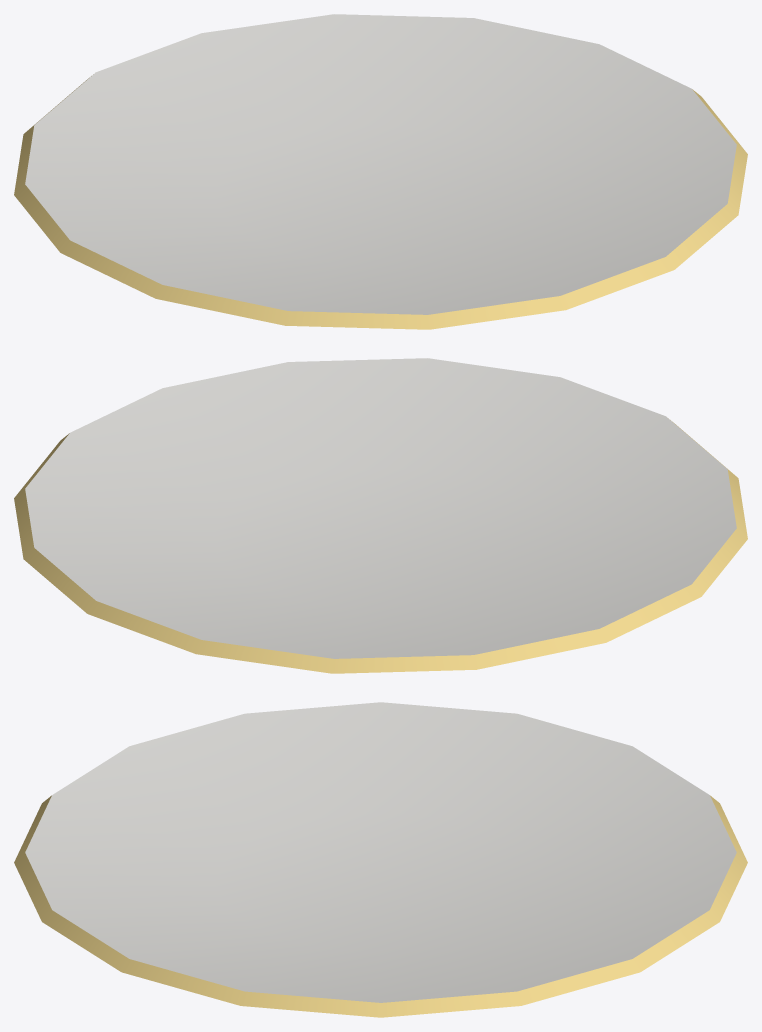
Rendered from tea_celestia_saucer.glb.
3 views of the same model, one above another, from view 1: azimuth 30°, elevation 25°; view 2: azimuth 150°, elevation 25°; view 3: azimuth 270°, elevation 25° (orthographic).
Visible parts, largest first — view 1: celestia_Saucer; view 2: celestia_Saucer; view 3: celestia_Saucer.
Boxes of the visible parts, box(x1,y1,x2,y2) form: celestia_Saucer: box(14, 14, 747, 329); celestia_Saucer: box(14, 358, 747, 673); celestia_Saucer: box(14, 702, 747, 1017).
Bounding box in the file's own units: 0.132 × 0.012 × 0.132.
